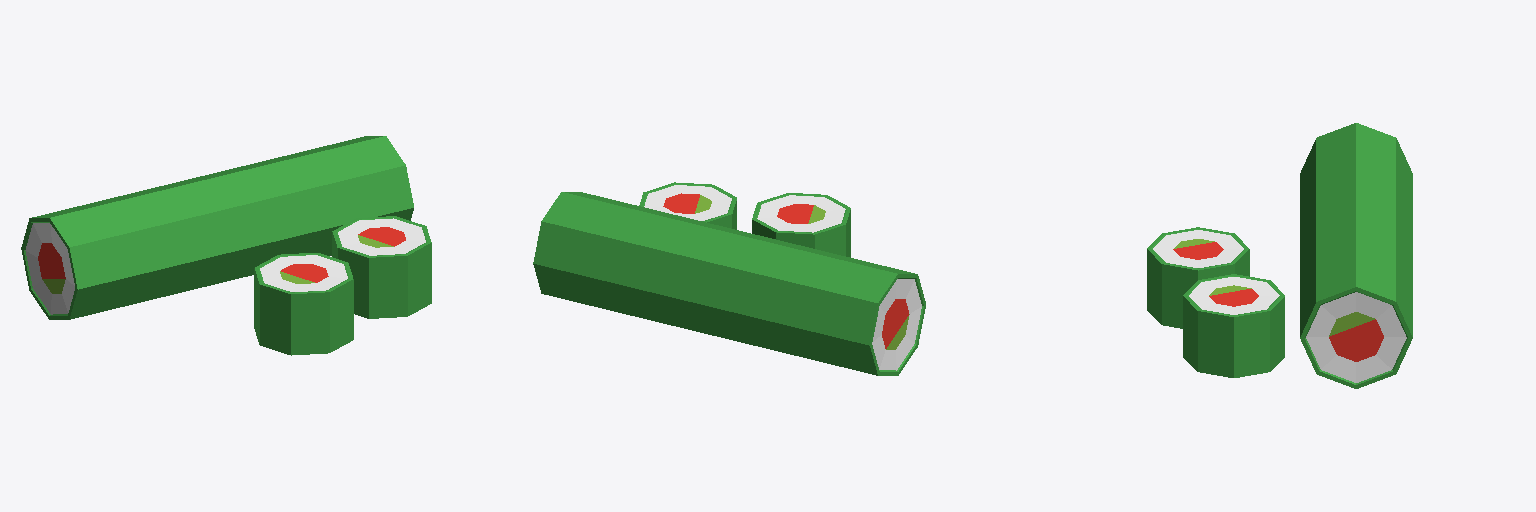
The model's file is Sushi_01.obj.
The picture shows the model from 3 angles: view 1: azimuth 30°, elevation 25°; view 2: azimuth 150°, elevation 25°; view 3: azimuth 270°, elevation 25°; orthographic projection.
Parts seen in each view (by area): view 1: Sushi_Circle.010; view 2: Sushi_Circle.010; view 3: Sushi_Circle.010.
Part boxes in pixels (x1,y1,x2,y2): Sushi_Circle.010: (21,136,431,355); Sushi_Circle.010: (533,182,925,375); Sushi_Circle.010: (1147,123,1412,388).
Bounding box in the file's own units: 10 × 2.91 × 6.84.